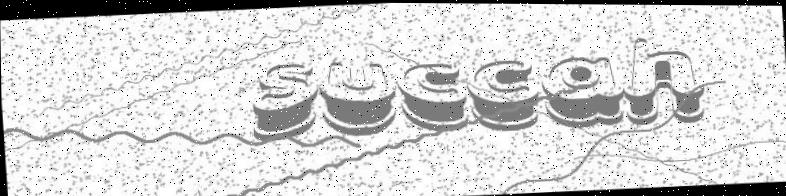a: (539, 54, 625, 129)
c: (466, 58, 541, 133), (396, 60, 470, 134)
h: (620, 35, 705, 125)
s: (249, 63, 321, 142)
u: (318, 58, 399, 137)
